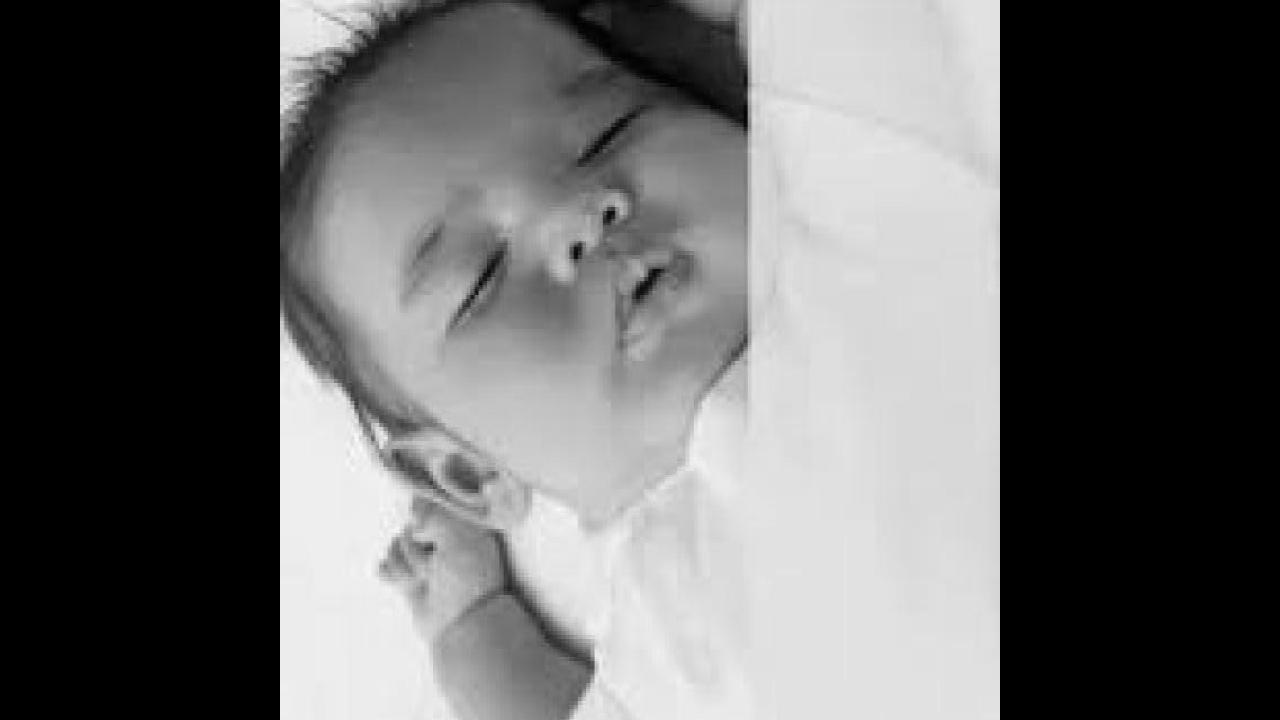hand: (368, 493, 511, 657)
